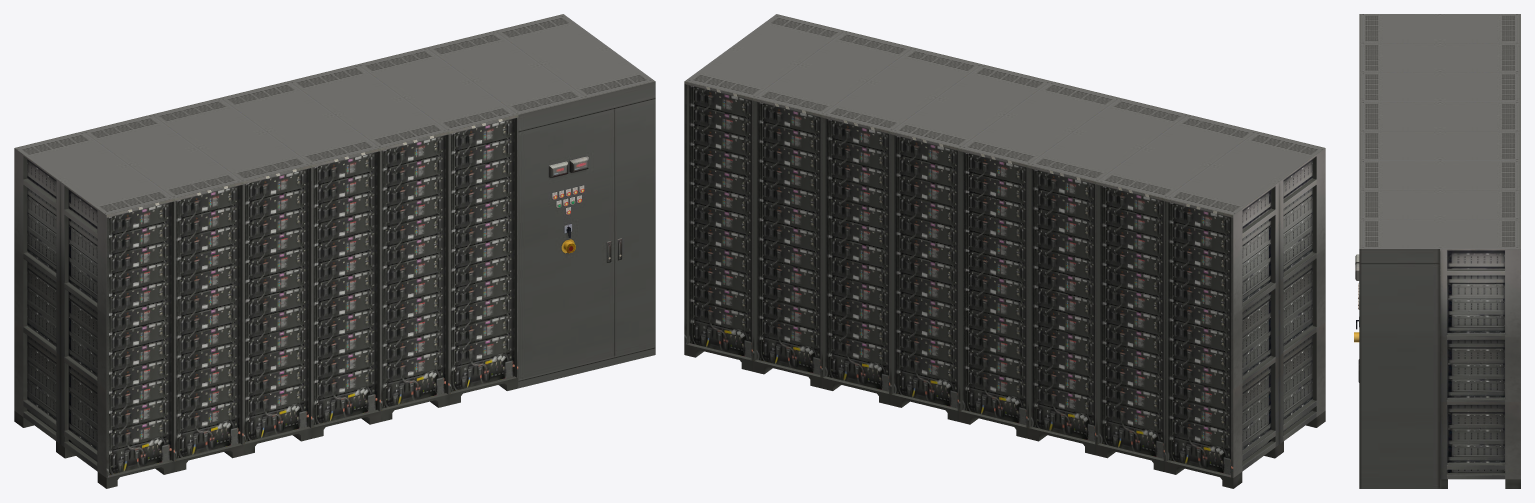
Rendered from battery_module02.gltf.
The picture shows the model from 3 angles, left to right: view 1: azimuth 30°, elevation 25°; view 2: azimuth 150°, elevation 25°; view 3: azimuth 270°, elevation 25°; orthographic projection. The views are drawn at different scales.
Parts seen in each view (by area): view 1: battery; view 2: battery; view 3: battery.
Part boxes in pixels (x1,y1,x2,y2): battery: (14, 14, 655, 488); battery: (684, 14, 1325, 488); battery: (1354, 14, 1520, 488).
Bounding box in the file's own units: 42 × 20 × 12.6.
1 material, 1 textured.
